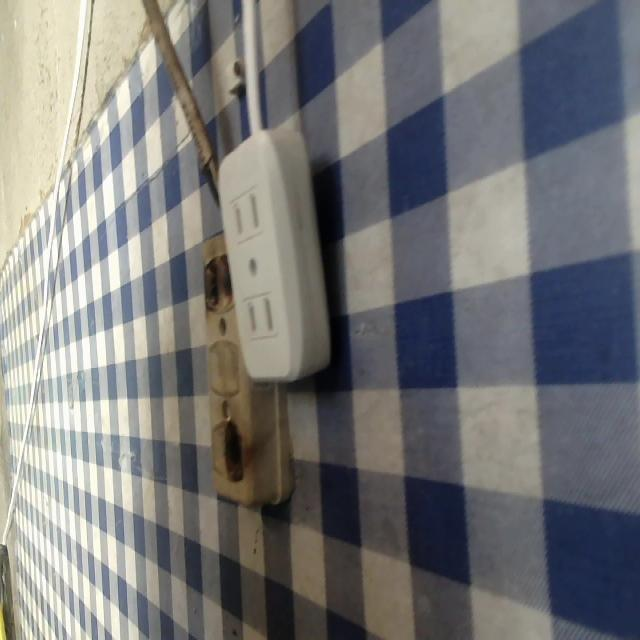-: (222, 421, 250, 488), (201, 253, 231, 310)
